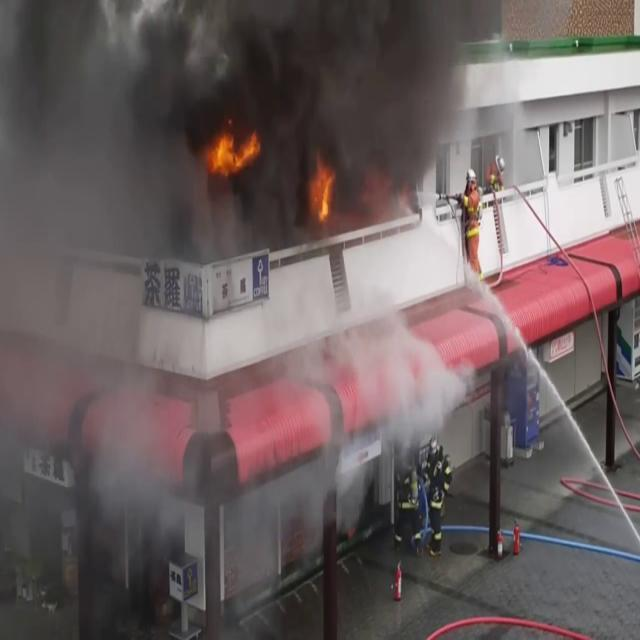Fire: (203, 121, 260, 187), (308, 152, 338, 231)
Smoke: (2, 0, 208, 640), (116, 0, 480, 263)
